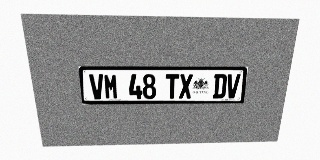4: (128, 74, 142, 99)
8: (142, 74, 156, 99)
D: (212, 74, 227, 98)
M: (103, 74, 119, 99)
T: (165, 74, 179, 99)
V: (89, 74, 105, 99), (225, 74, 241, 98)
X: (179, 74, 193, 99)
